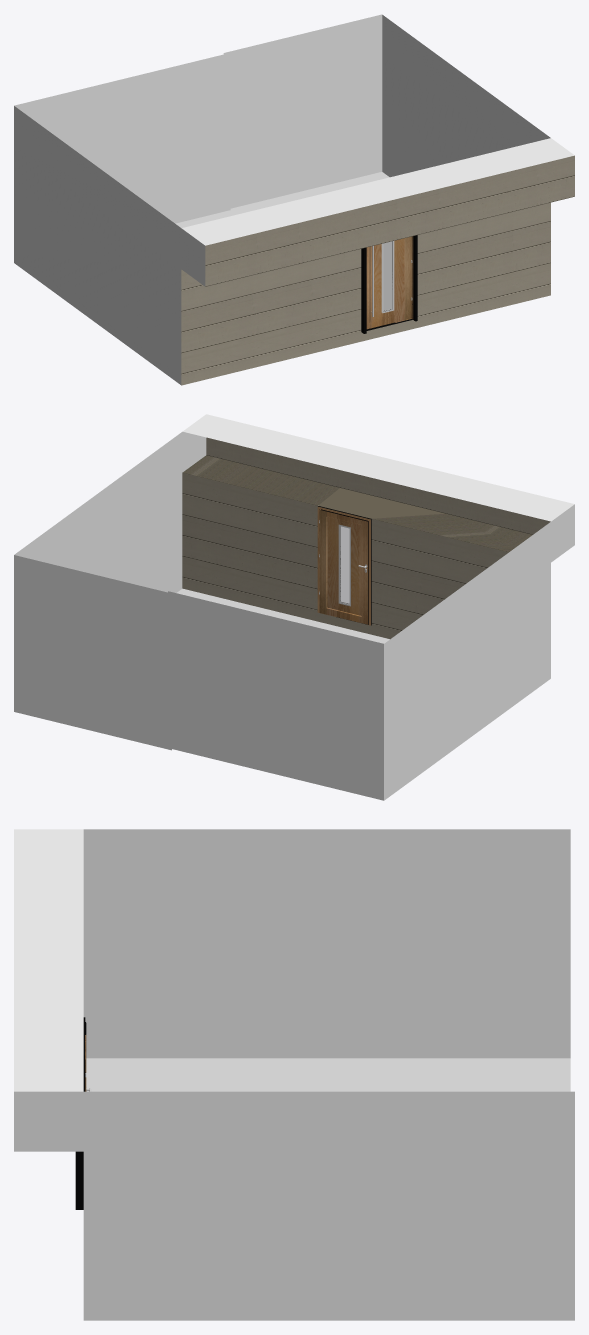
File: another.glb
The picture shows the model from 3 angles, top to bottom: view 1: azimuth 30°, elevation 25°; view 2: azimuth 150°, elevation 25°; view 3: azimuth 270°, elevation 25°; orthographic projection. The views are drawn at different scales.
Visible parts, largest first — view 1: Room, Plane.008, Floor, Cube.001; view 2: Room, Plane.008, Floor, Cube.001; view 3: Room, Floor, Cube.001.
Boxes of the visible parts, <box> form: Room: <box>14,14,574,385</box>; Plane.008: <box>366,236,413,330</box>; Floor: <box>175,172,392,310</box>; Cube.001: <box>361,235,417,333</box>; Room: <box>14,414,574,800</box>; Plane.008: <box>319,509,368,624</box>; Floor: <box>176,588,389,643</box>; Cube.001: <box>317,506,371,625</box>; Room: <box>14,829,574,1320</box>; Floor: <box>86,1058,570,1091</box>; Cube.001: <box>75,1017,85,1209</box>.
Size of what is drawn, in the model's own units: 199 by 81.14 by 180.
Materials: 8 (2 with a texture image).
